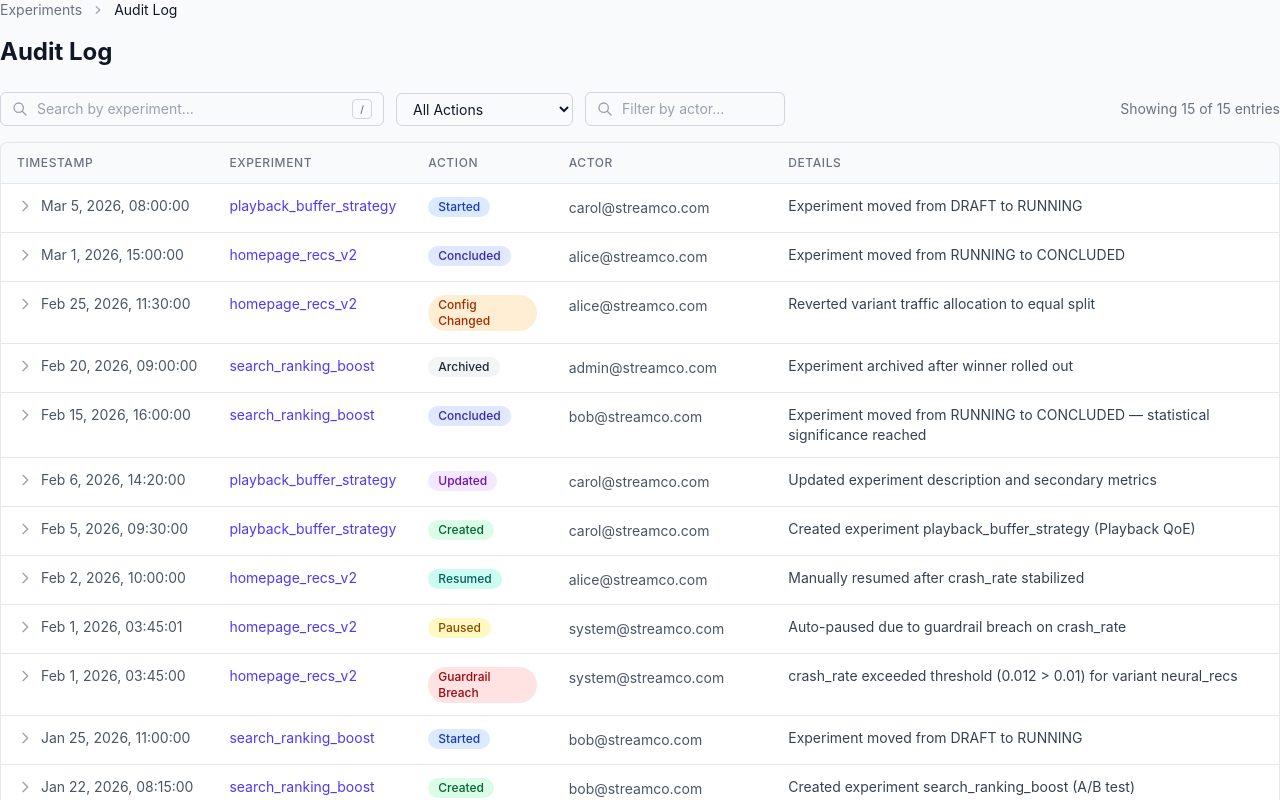
Scenario: Audit Log Page › empty state when no entries match filters
Expected: the heading "Audit Log" is shown, [0,37,112,66]
# Search for something that doesn't exist
Type "nonexistent_experiment_xyz" into the field named "Search by experiment name" at x=192, y=109, box [0,92,384,126]
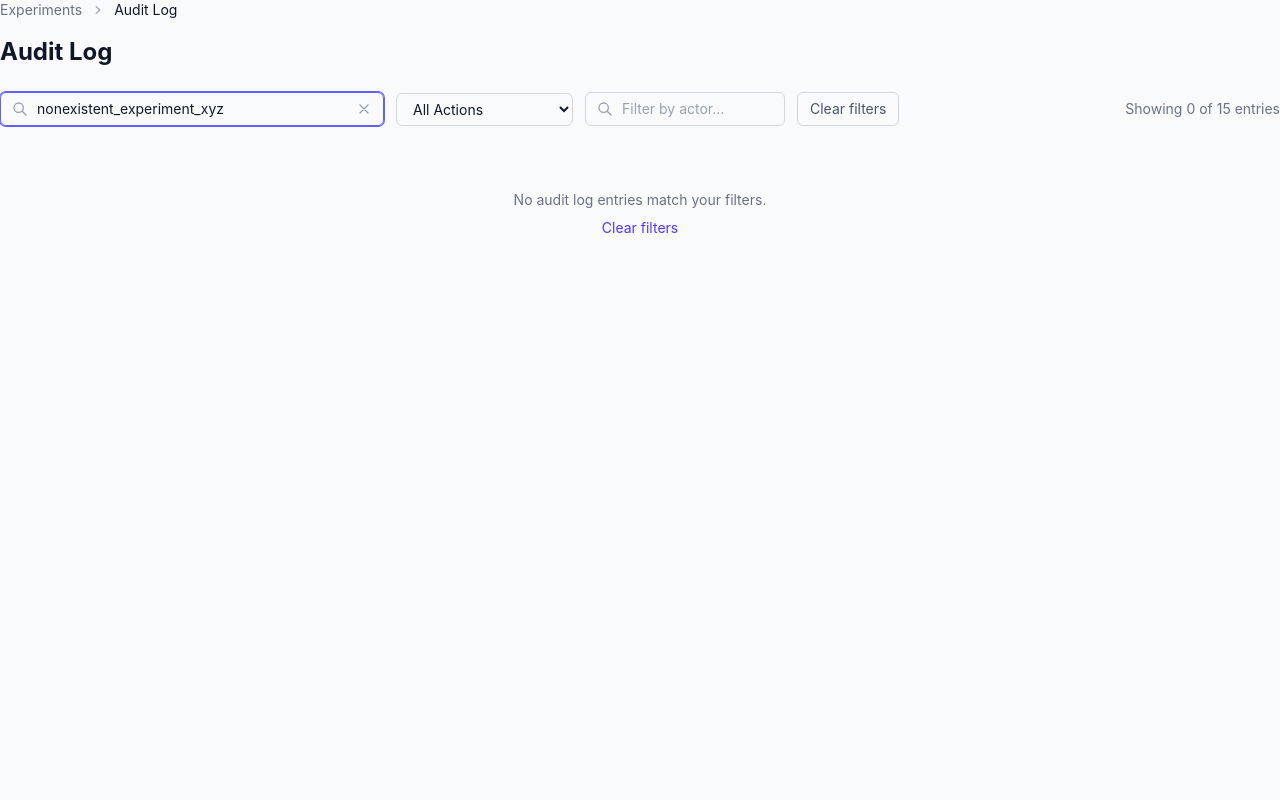
Now the element with test id "no-filter-matches" is shown, box [514,191,766,238]
Now the text "No audit log entries match your filters." is shown, box [514,191,766,208]
